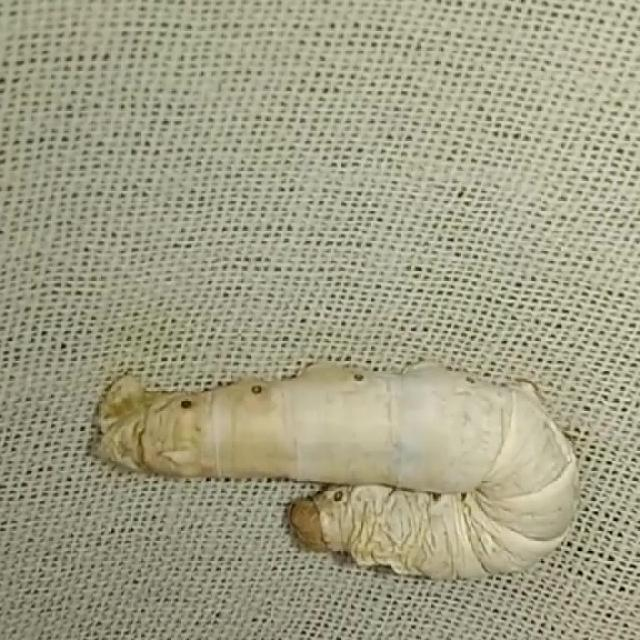Grasserie: (84, 330, 600, 602)
